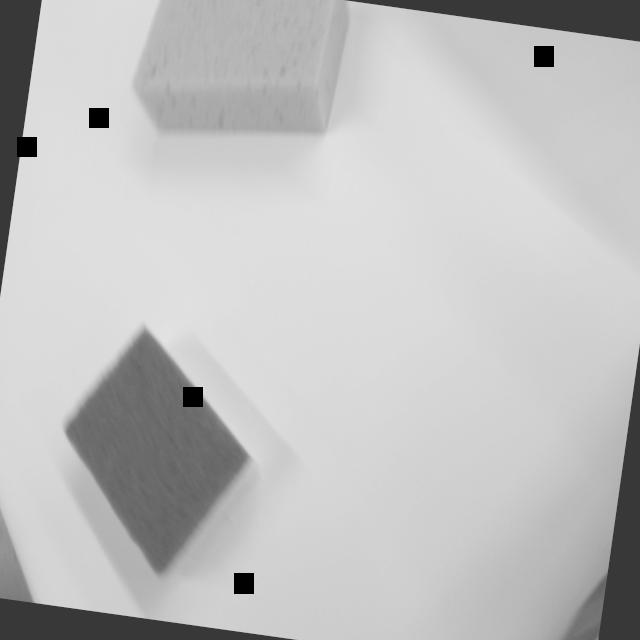scrubby: (43, 310, 283, 592)
